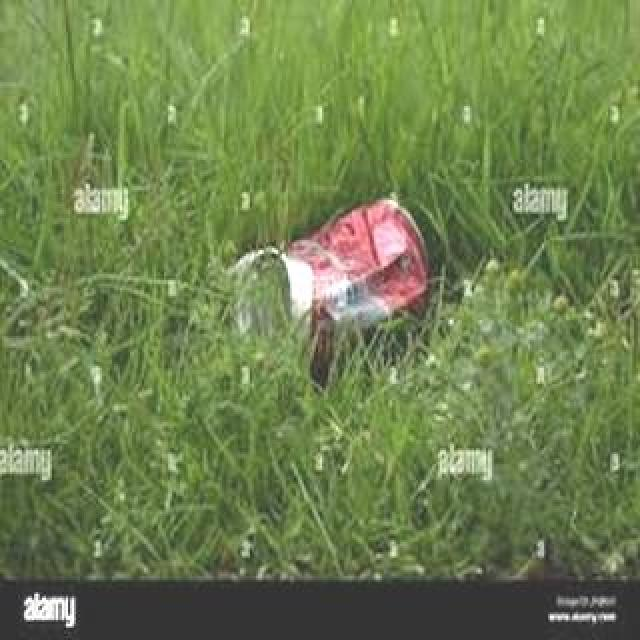Can: (223, 193, 449, 365)
